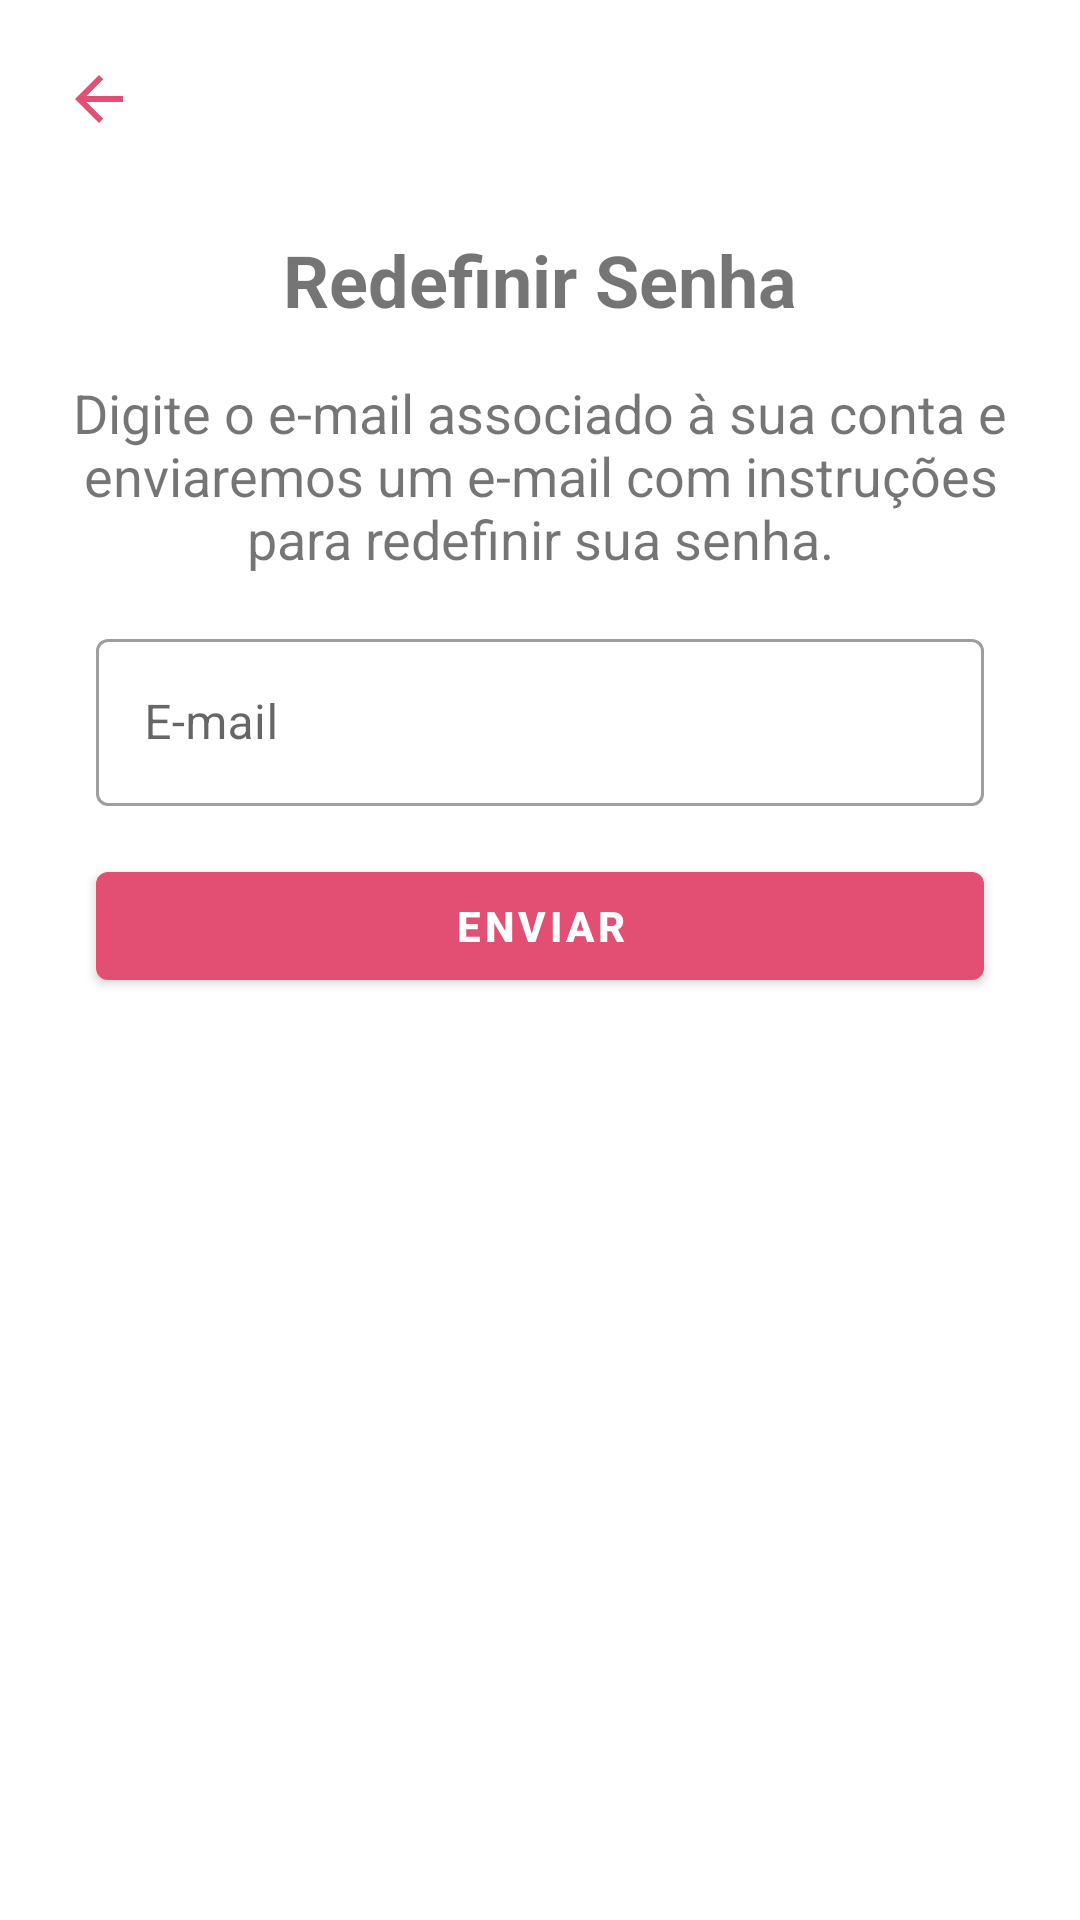

Where to tap for icons on this 1080w x 1920h app screen, as (x=x, y=y):
Botão voltar: (x=99, y=99)
